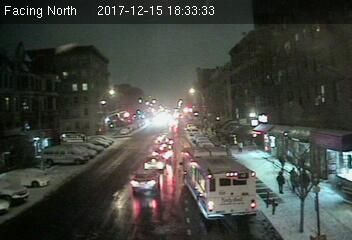bus: (182, 147, 259, 222)
car: (131, 170, 161, 190), (143, 154, 166, 171)
pedestrian: (275, 167, 286, 193)
